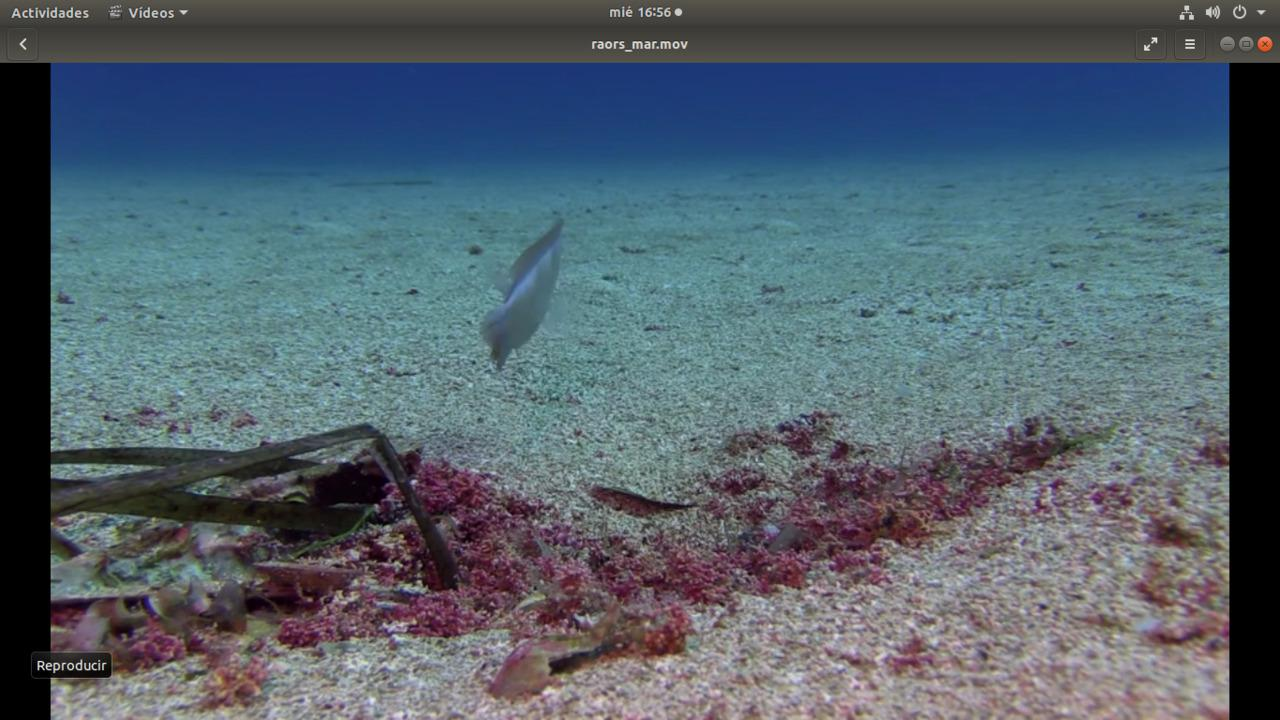raor: (464, 211, 578, 384)
